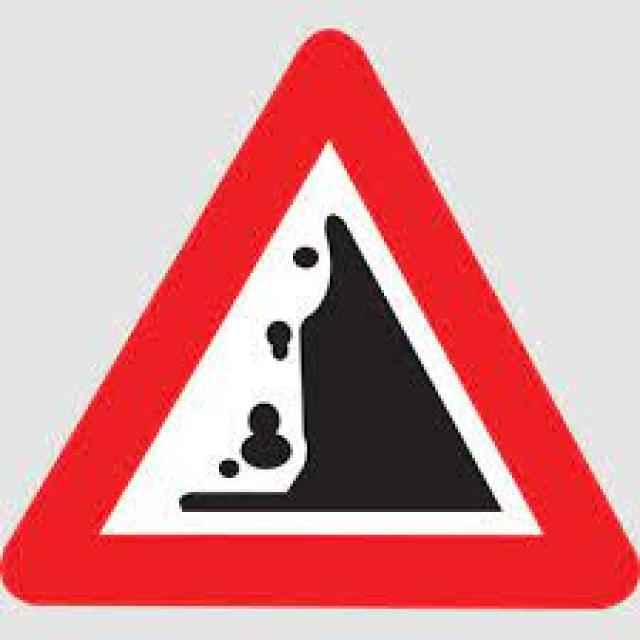falling rocks: (16, 29, 627, 610)
